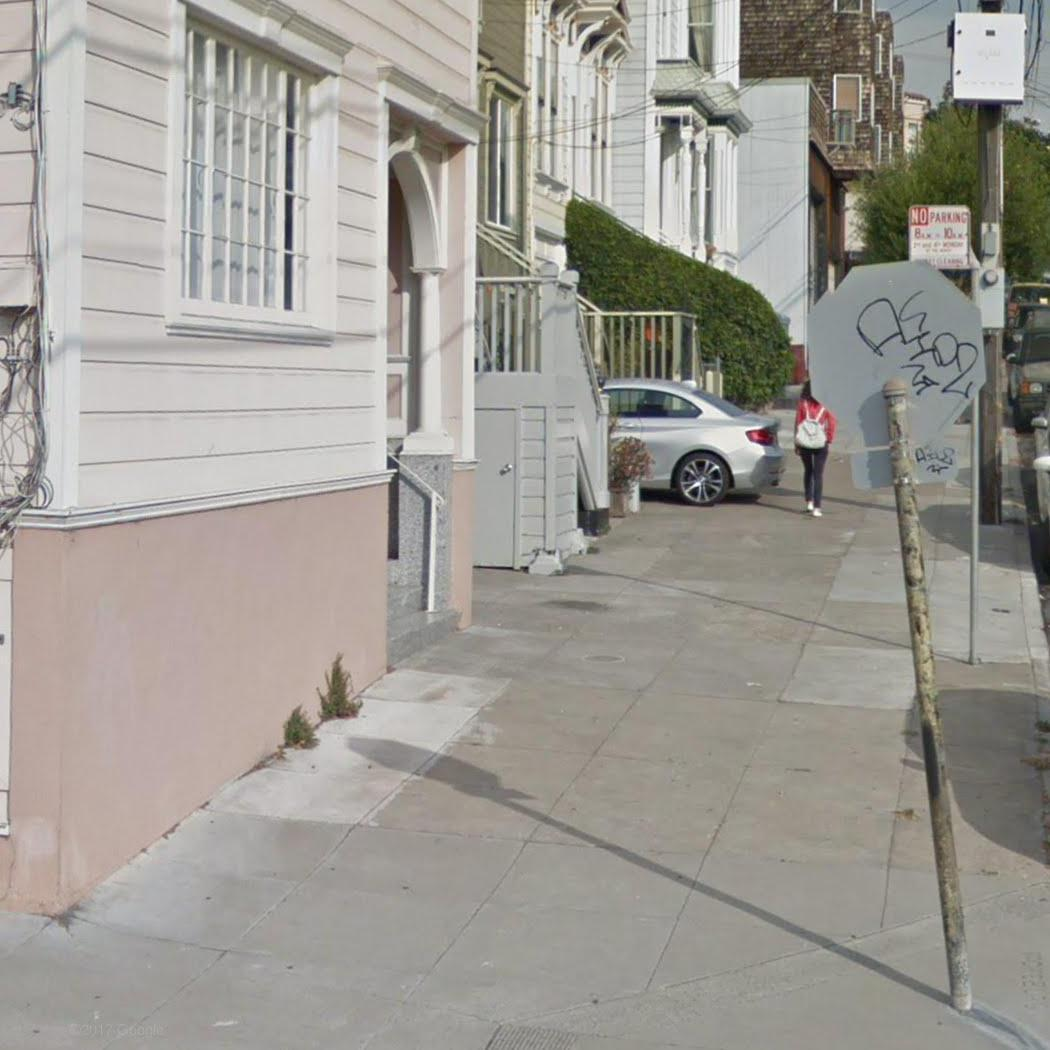No Parking: (902, 201, 973, 274)
